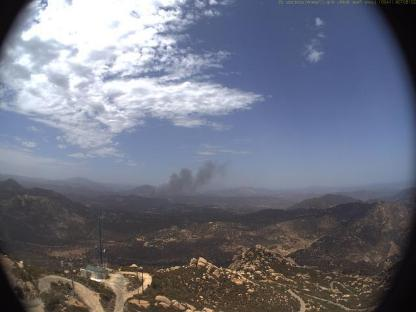smoke: (146, 156, 232, 206)
